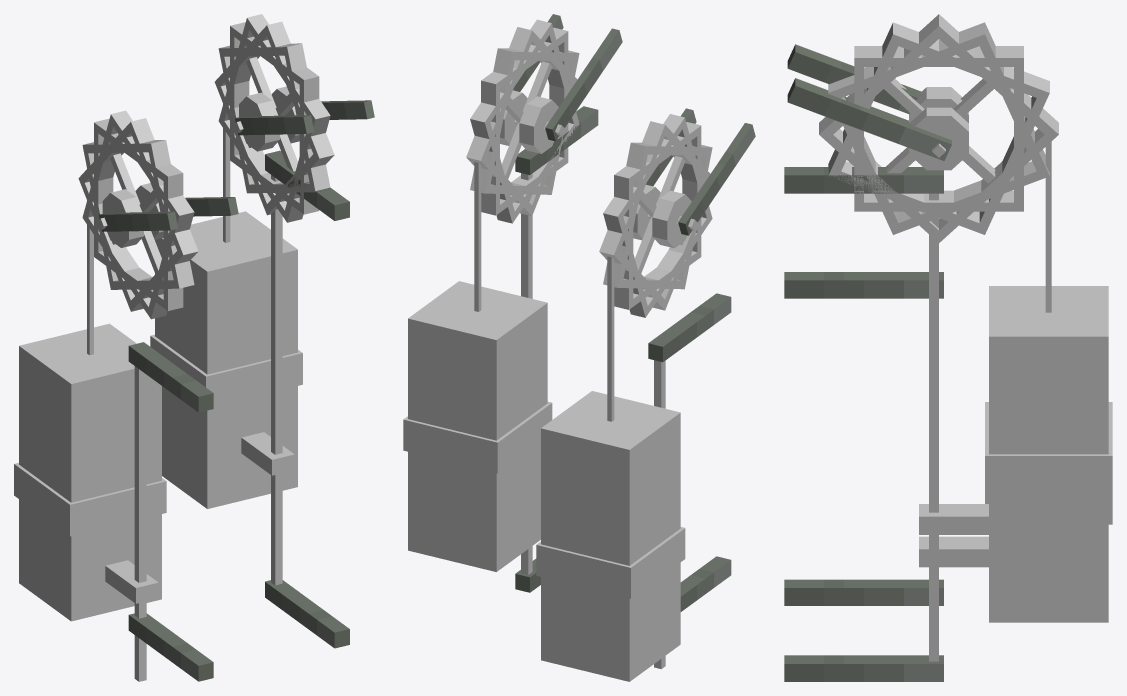
The model's file is tensioning_device.obj.
3 renders of one model, left to right at view 1: azimuth 30°, elevation 25°; view 2: azimuth 150°, elevation 25°; view 3: azimuth 270°, elevation 25°, orthographic. The views are drawn at different scales.
Parts seen in each view (by area): view 1: c56, c49, c51, c53, c50, c58, c60, c62, c59, c61, c32, c9 (+38 smaller); view 2: c56, c49, c51, c50, c60, c9, c32, c61, c26, c3, c62, c53 (+32 smaller); view 3: c49, c50, c59, c53, c62, c60, c8, c61, c4, c54, c10, c14 (+21 smaller).
Boxes of the visible parts, x1,y1,x2,y2 form: c56: (19, 323, 161, 621); c49: (155, 211, 297, 508); c51: (14, 463, 166, 536); c53: (271, 175, 282, 585); c50: (150, 334, 302, 406); c58: (134, 366, 146, 681); c60: (128, 342, 213, 412); c62: (128, 613, 213, 681); c59: (265, 580, 349, 648); c61: (265, 150, 349, 220); c32: (99, 211, 177, 231); c9: (235, 115, 314, 135); c56: (541, 391, 680, 681); c49: (408, 281, 547, 571); c51: (536, 527, 685, 598); c50: (403, 401, 552, 473); c60: (648, 293, 731, 362); c9: (545, 28, 622, 141); c32: (678, 123, 755, 235); c61: (515, 106, 598, 174); c26: (652, 190, 691, 248); c3: (519, 96, 558, 153); c62: (680, 556, 731, 611); c53: (521, 173, 532, 574); c49: (989, 286, 1108, 607); c50: (985, 402, 1112, 492); c59: (784, 655, 943, 681); c53: (929, 193, 938, 661); c62: (784, 579, 943, 605); c60: (784, 272, 943, 298); c8: (787, 81, 951, 160); c61: (784, 167, 943, 193); c4: (909, 107, 968, 170); c54: (919, 504, 988, 534); c10: (864, 49, 1023, 66); c14: (837, 26, 988, 97).
Bounding box in the file's own units: 0.9625 × 2.45 × 1.03.
